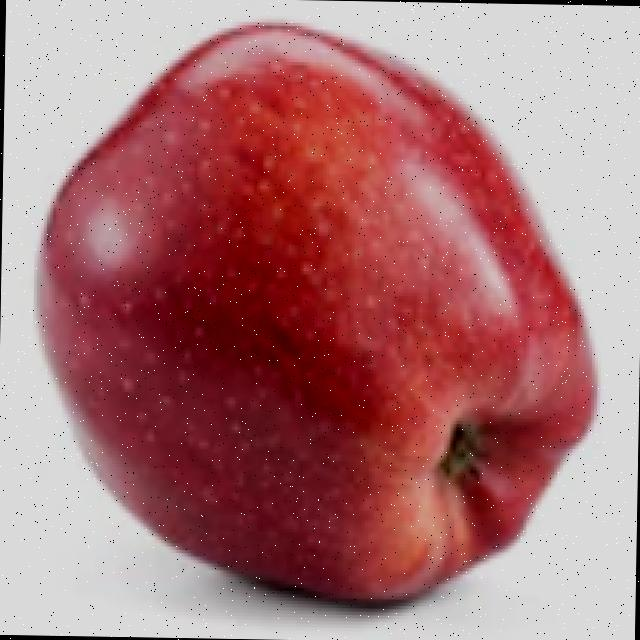Ripe: (24, 9, 608, 620)
